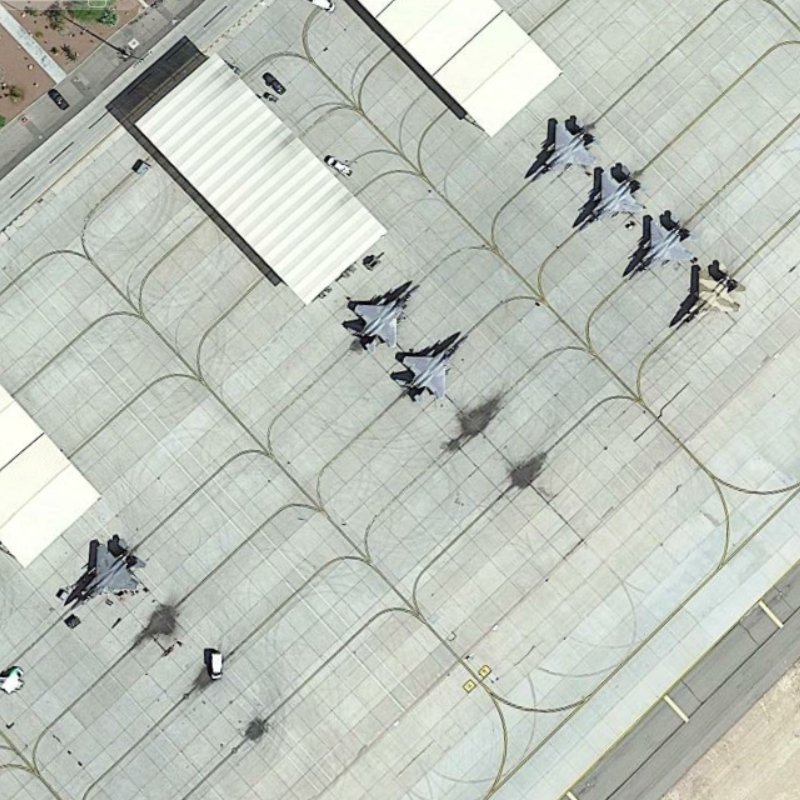A13: (662, 256, 754, 334), (64, 528, 146, 611), (516, 107, 604, 184), (621, 205, 701, 283), (343, 272, 418, 355), (394, 326, 470, 407), (571, 157, 650, 231)
